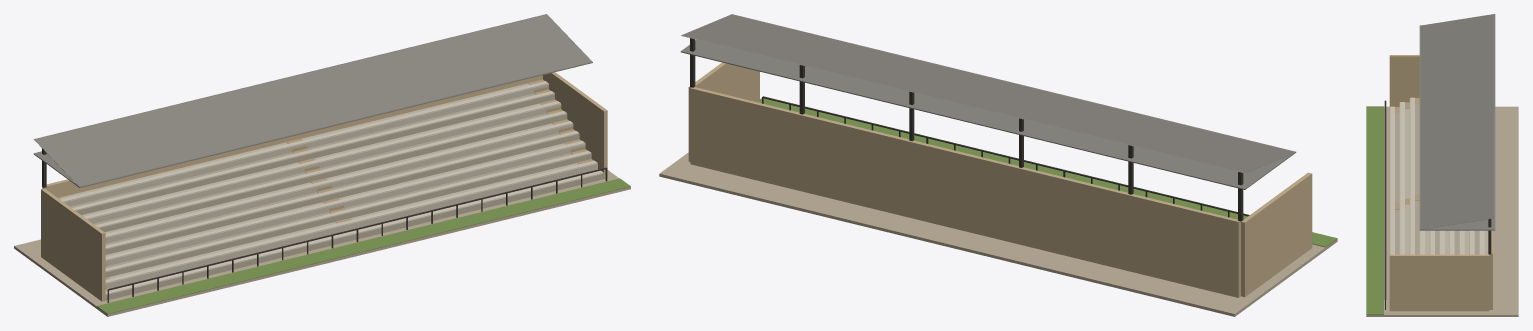
Rendered from tribun.glb.
3 renders of one model, left to right at view 1: azimuth 30°, elevation 25°; view 2: azimuth 150°, elevation 25°; view 3: azimuth 270°, elevation 25°, orthographic. The views are drawn at different scales.
Visible parts, largest first — view 1: sac, beton, beton2, oturak, tas2, cim, zemin, demir, tas3; view 2: tas2, sac, zemin, demir, cim; view 3: sac, tas2, zemin, cim, oturak, beton2, beton, demir, tas3.
Part boxes in pixels (x1,y1,x2,y2): sac: (33, 14, 592, 187); beton: (60, 83, 597, 288); beton2: (70, 93, 603, 300); oturak: (60, 81, 603, 294); tas2: (41, 72, 607, 301); cim: (97, 178, 630, 314); zemin: (14, 170, 630, 316); demir: (42, 148, 607, 302); tas3: (58, 79, 597, 291); tas2: (688, 62, 1312, 297); sac: (680, 14, 1296, 189); zemin: (659, 152, 1337, 316); demir: (690, 38, 1249, 221); cim: (760, 98, 1337, 247); sac: (1419, 14, 1495, 230); tas2: (1389, 55, 1492, 311); zemin: (1366, 106, 1518, 316); cim: (1366, 106, 1383, 314); oturak: (1390, 97, 1484, 254); beton2: (1389, 98, 1479, 254); beton: (1399, 103, 1488, 254); demir: (1384, 100, 1491, 309); tas3: (1395, 98, 1419, 209).
Size of the model in its own units: 42 by 9.1 by 13.
